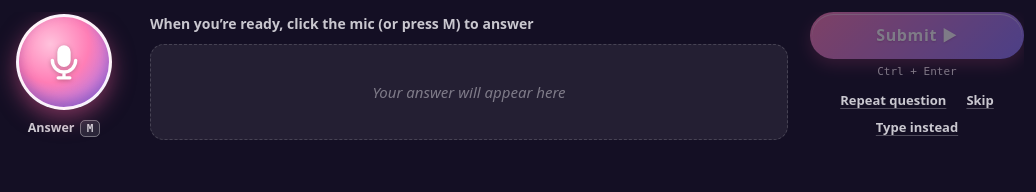
AnswerPanel — speech errors › keeps a recording whose API transcription failed, says why, and retries it without re-recording
Click the button with test id "mic-button" at (64, 62), box x1=16 y1=14 x2=112 y2=110
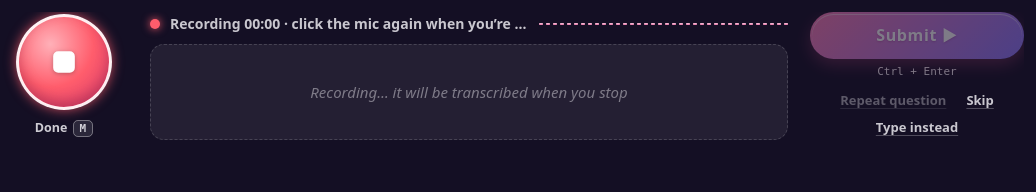
Click the button with test id "mic-button" at (64, 62), box x1=16 y1=14 x2=112 y2=110
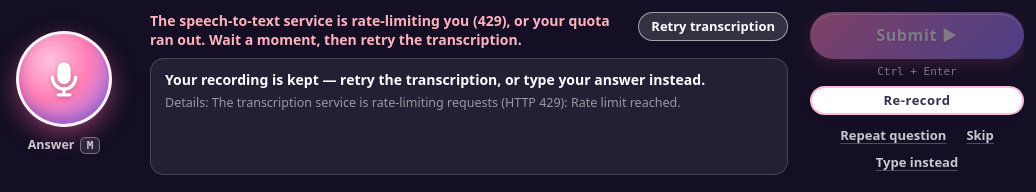
Check: the message shows "rate-limiting you (429)", box x1=150 y1=11 x2=610 y2=49
Check: the element with test id "answer-live" shows "recording is kept", box x1=165 y1=70 x2=705 y2=89
Check: the element with test id "answer-live" shows "HTTP 429", box x1=165 y1=94 x2=680 y2=111
Click the button with test id "answer-retry-transcription" at (713, 26), box x1=638 y1=12 x2=788 y2=41
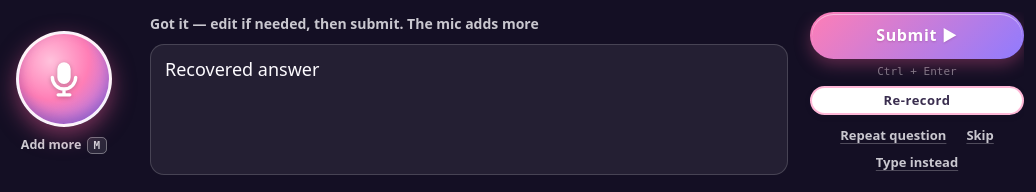
Check: the text box with test id "answer-textarea" holds "Recovered answer", box x1=150 y1=44 x2=788 y2=175
Check: the button with test id "answer-retry-transcription" is gone
